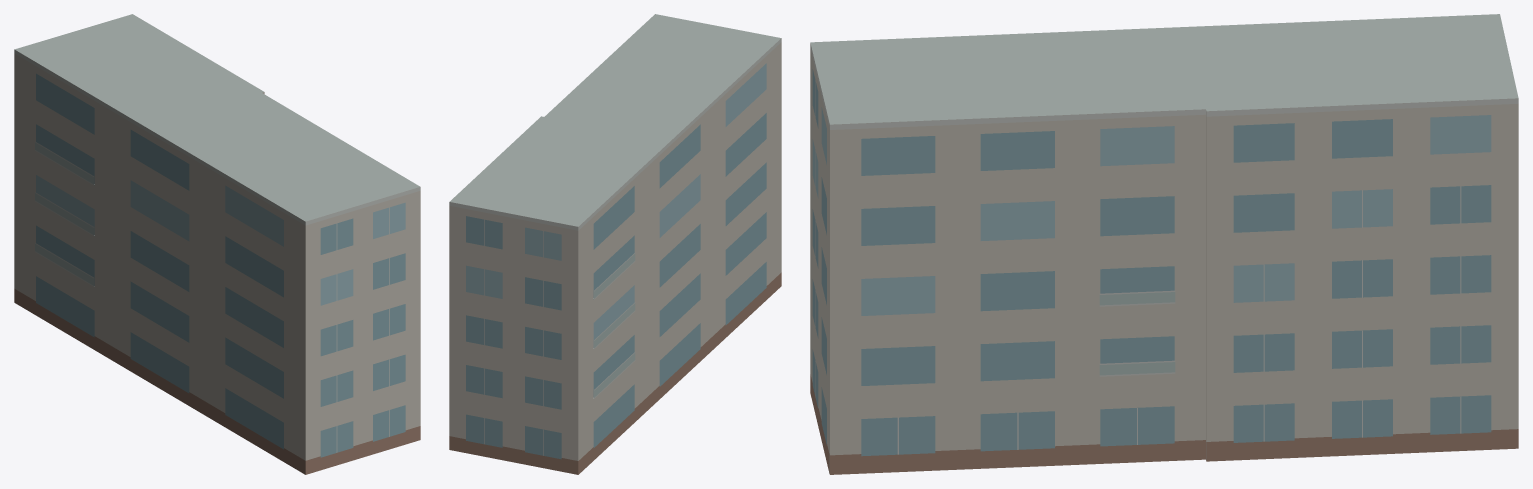
The model's file is survey-upis-32633934.glb.
3 renders of one model, left to right at view 1: azimuth 30°, elevation 25°; view 2: azimuth 150°, elevation 25°; view 3: azimuth 270°, elevation 25°, orthographic. The views are drawn at different scales.
Parts seen in each view (by area): view 1: survey-upis-32633934.tmp; view 2: survey-upis-32633934.tmp; view 3: survey-upis-32633934.tmp.
Part boxes in pixels (x1,y1,x2,y2): survey-upis-32633934.tmp: (14, 14, 420, 474); survey-upis-32633934.tmp: (449, 14, 781, 474); survey-upis-32633934.tmp: (810, 14, 1518, 474).
Bounding box in the file's own units: 10.62 × 15.67 × 28.73.
